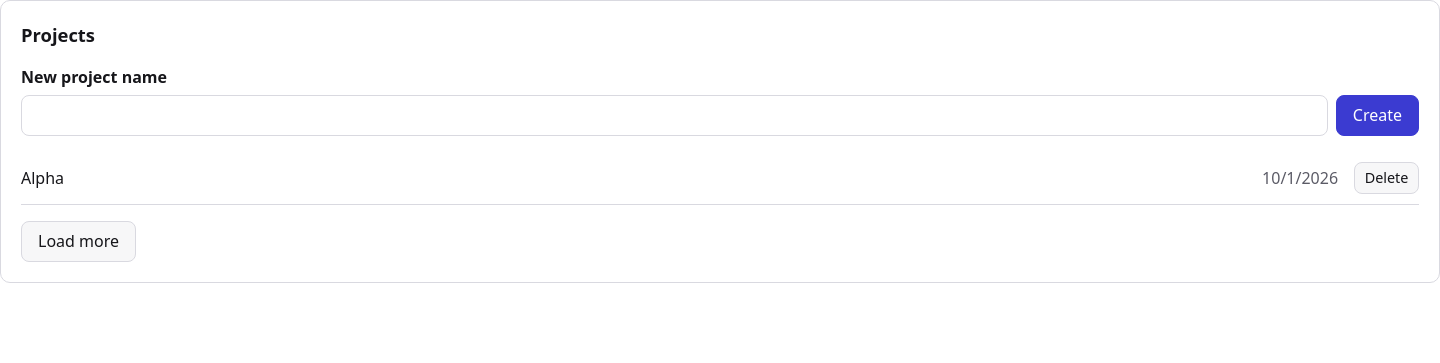
Test: projects panel list › lists a project created here once, even when a later page returns it
The width and height of the screenshot is (1440, 363).
expect the text "Alpha" is shown: met, box [21,166,64,188]
Type "Fresh" into the field labelled "New project name".
click(674, 116); type("Fresh")  # box [21,95,1328,136]
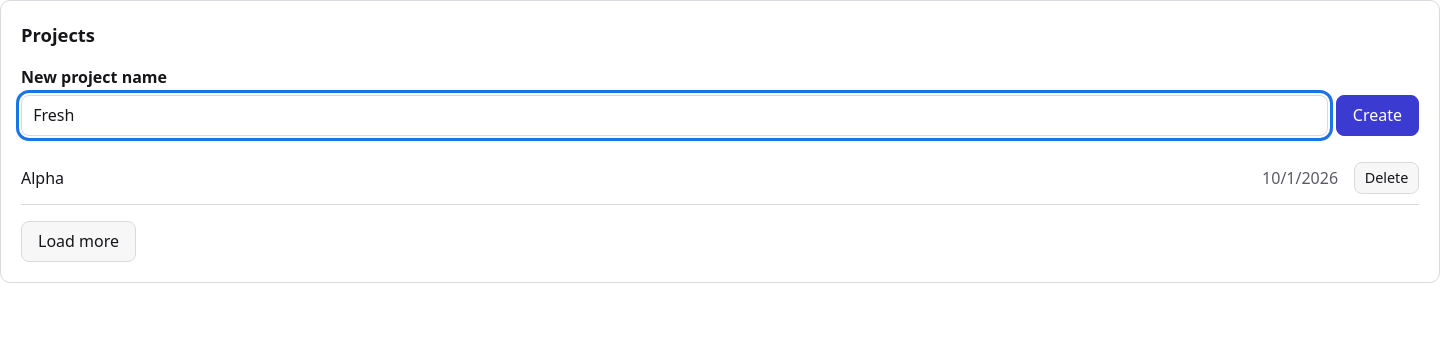
Click the button "Create".
click(1377, 116)  # box [1336,95,1419,136]
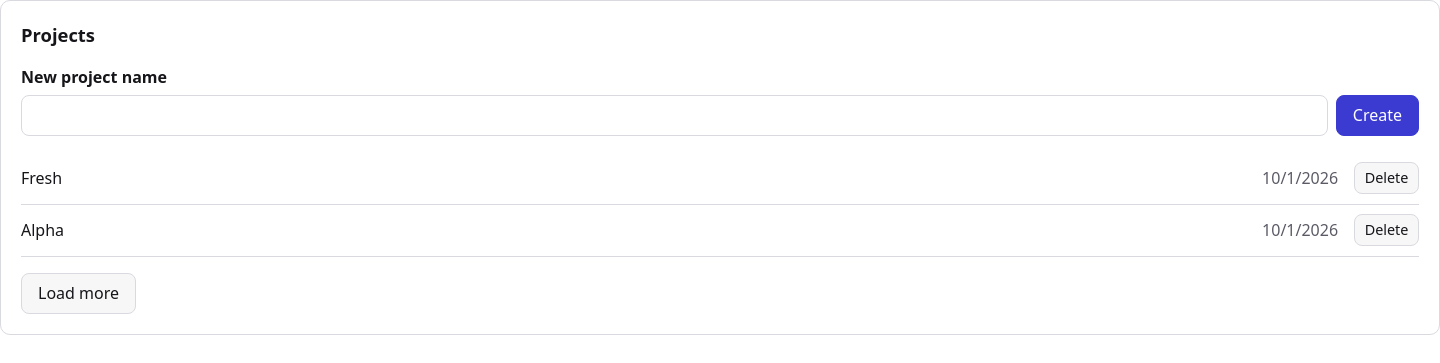
expect the text "Fresh" is shown: met, box [21,166,62,188]
Click the button "Load more".
click(78, 293)  # box [21,273,136,314]
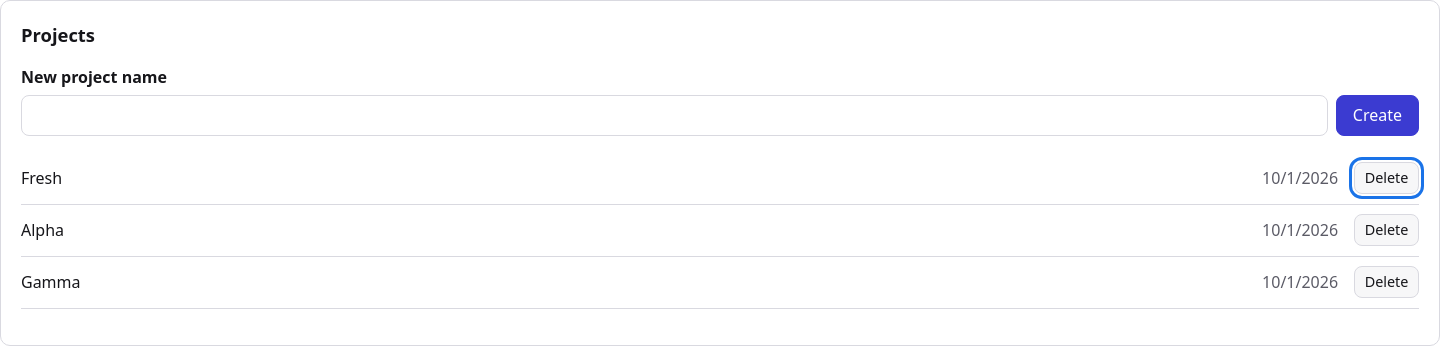
expect the text "Gamma" is shown: met, box [21,271,80,293]
